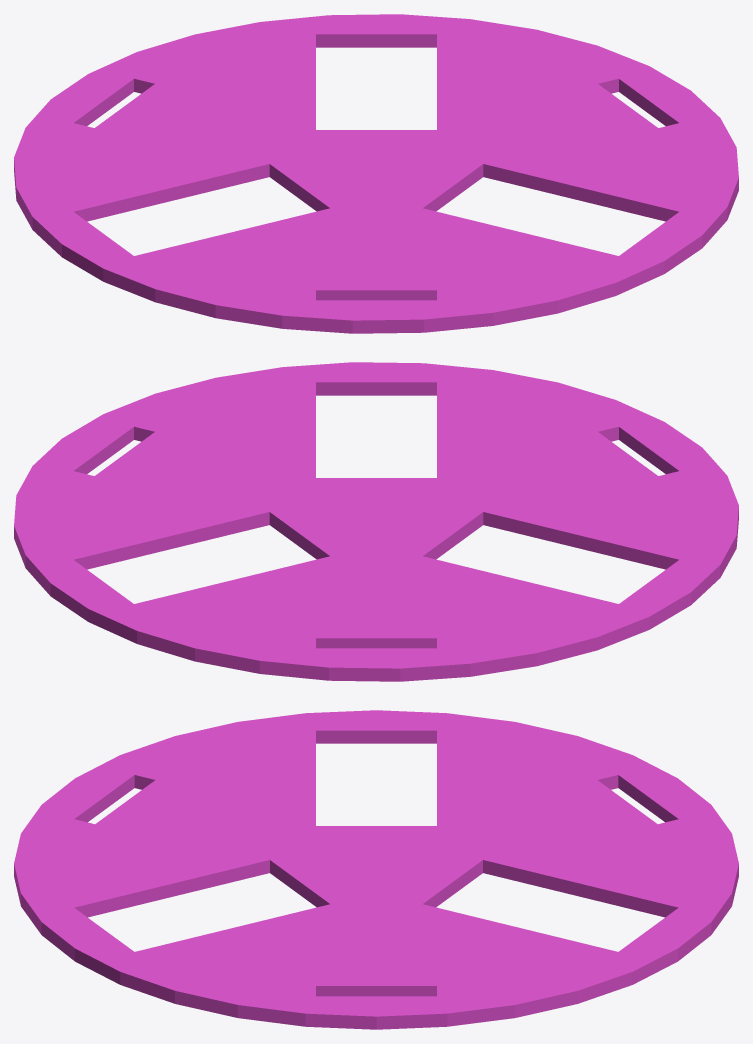
Rendered from lower_plate.dae.
3 views of the same model, one above another, from view 1: azimuth 30°, elevation 25°; view 2: azimuth 150°, elevation 25°; view 3: azimuth 270°, elevation 25° (orthographic).
Parts seen in each view (by area): view 1: lower_plate; view 2: lower_plate; view 3: lower_plate.
Boxes of the visible parts, x1,y1,x2,y2 form: lower_plate: (14, 14, 738, 333); lower_plate: (14, 362, 738, 681); lower_plate: (14, 710, 738, 1029).
Size of the model in its own units: 0.3 by 0.3 by 0.006.
